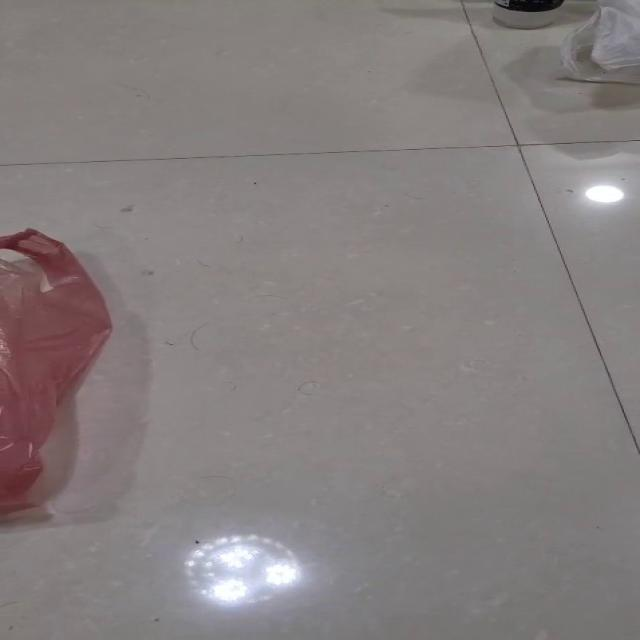plastic: (0, 226, 112, 514)
